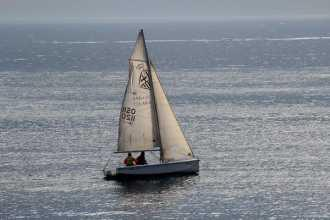fanchuan: (101, 26, 198, 183)
